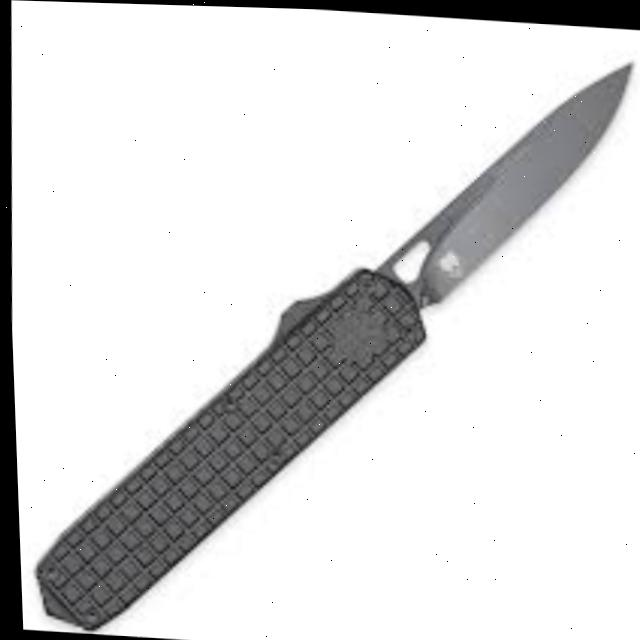knife: (14, 17, 640, 640)
